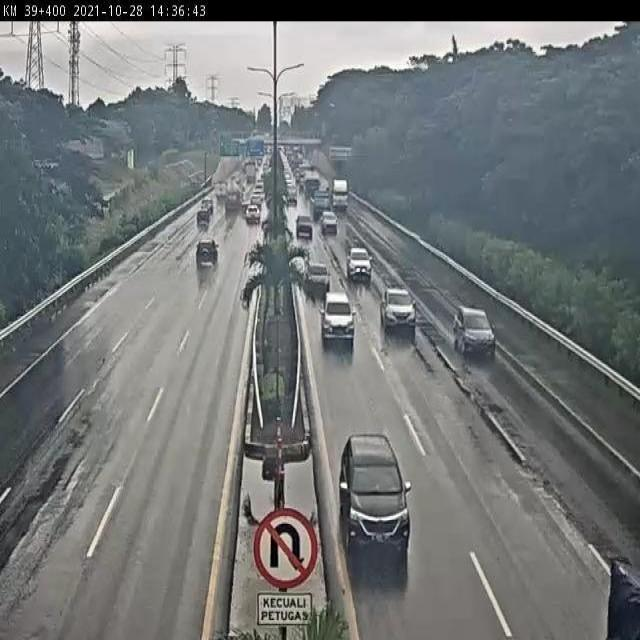Car: (338, 433, 413, 553), (452, 304, 496, 361), (320, 291, 356, 350), (380, 286, 418, 339), (346, 246, 372, 282), (304, 259, 330, 295), (196, 238, 218, 268), (296, 214, 313, 238), (321, 211, 338, 234), (245, 204, 261, 224), (196, 208, 210, 228), (201, 197, 214, 213), (251, 194, 262, 205)
Truck: (310, 189, 332, 221), (329, 175, 348, 212), (302, 170, 321, 198), (298, 164, 314, 189), (224, 189, 241, 212), (214, 181, 228, 201), (246, 163, 256, 182)
